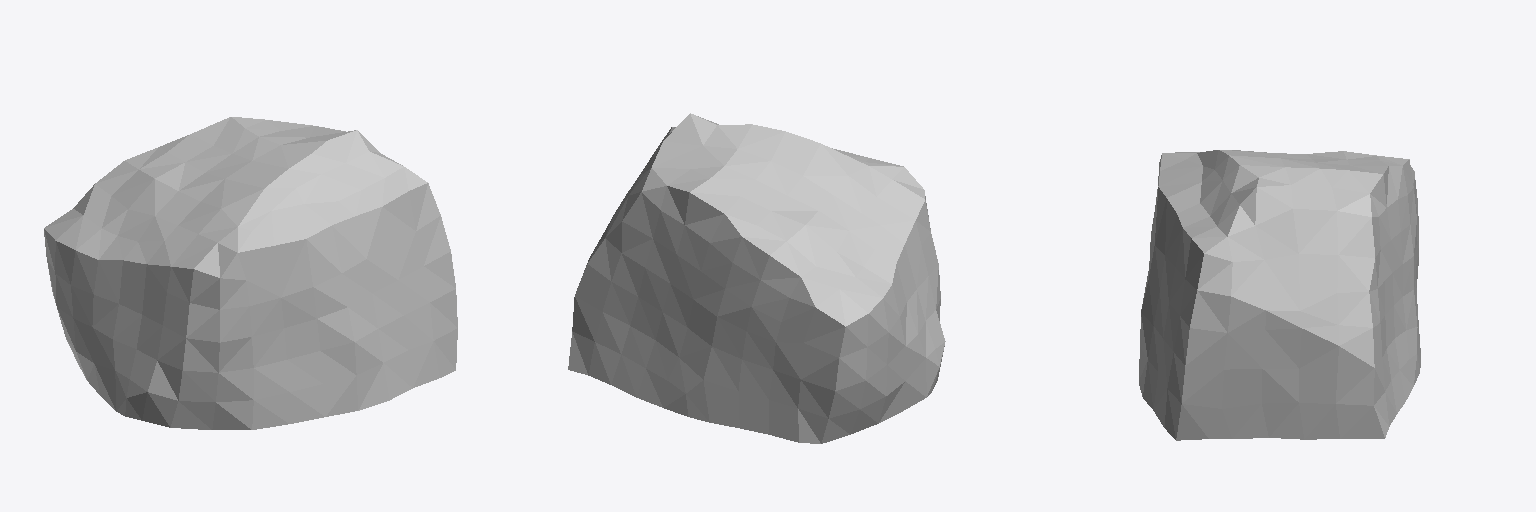
Rendered from sharprockfree.obj.
The picture shows the model from 3 angles: view 1: azimuth 30°, elevation 25°; view 2: azimuth 150°, elevation 25°; view 3: azimuth 270°, elevation 25°; orthographic projection.
Visible parts, largest first — view 1: Volume6; view 2: Volume6; view 3: Volume6.
Boxes of the visible parts, x1,y1,x2,y2 form: Volume6: [44, 117, 457, 429]; Volume6: [568, 113, 945, 443]; Volume6: [1139, 150, 1420, 440].
Size of the model in its own units: 108 by 76.18 by 86.71.